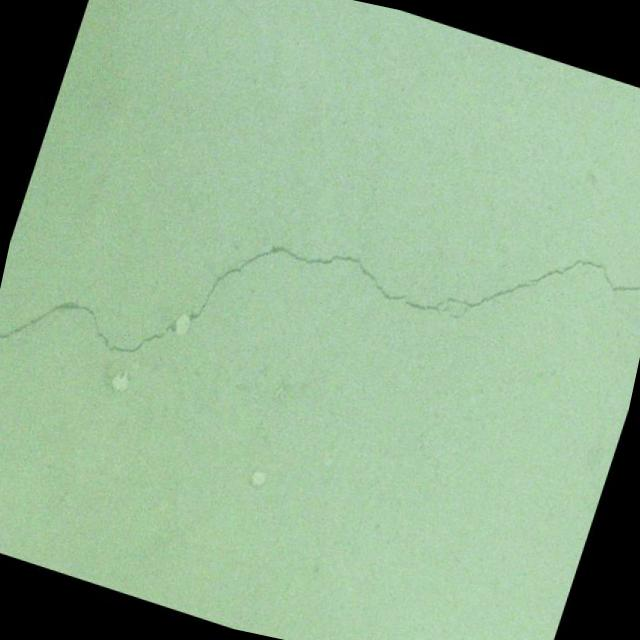crack: (0, 81, 640, 562), (591, 293, 640, 360)
